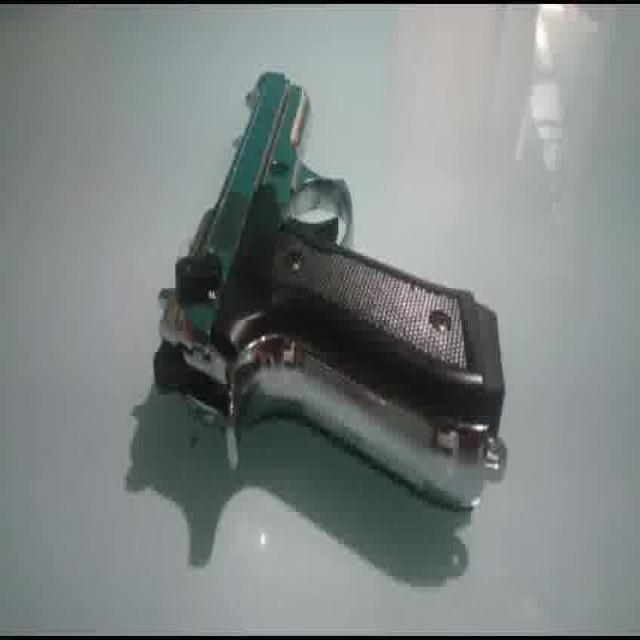weapon: (153, 69, 507, 512)
